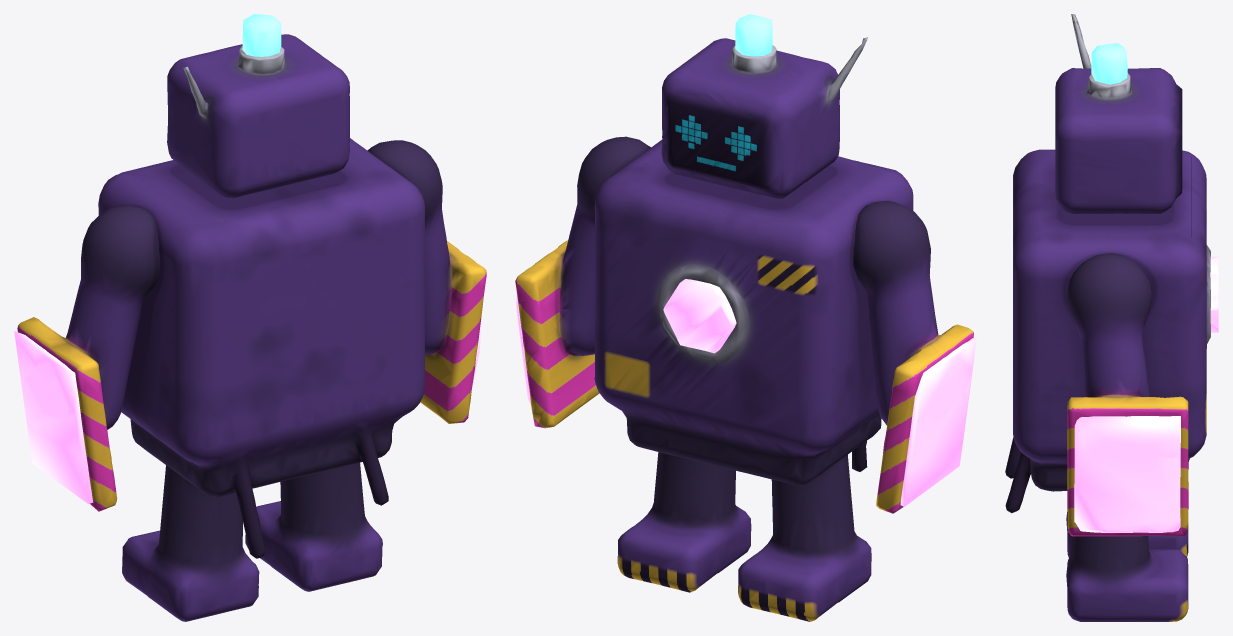
The model's file is Volta.glb.
The picture shows the model from 3 angles, left to right: view 1: azimuth 30°, elevation 25°; view 2: azimuth 150°, elevation 25°; view 3: azimuth 270°, elevation 25°; orthographic projection. The views are drawn at different scales.
Visible parts, largest first — view 1: Body, Head, ArmL, LegL, ArmR, LegR, ArmL_Glow, Head_Glow; view 2: Body, Head, ArmL, ArmR, LegL, LegR, ArmL_Glow, Body_Glow, Head_Glow; view 3: Body, Head, ArmR, ArmR_Glow, LegR, Head_Glow, LegL, Body_Glow.
Boxes of the visible parts, x1,y1,x2,y2 form: Body: (98, 138, 424, 558); Head: (167, 34, 349, 197); ArmL: (17, 205, 160, 511); LegL: (122, 465, 259, 621); ArmR: (367, 140, 486, 423); LegR: (245, 462, 382, 591); ArmL_Glow: (14, 331, 93, 503); Head_Glow: (242, 14, 281, 56); Body: (594, 140, 913, 486); Head: (661, 37, 867, 198); ArmL: (853, 200, 973, 513); ArmR: (515, 136, 650, 428); LegL: (738, 454, 871, 621); LegR: (617, 452, 751, 592); ArmL_Glow: (900, 338, 976, 506); Body_Glow: (663, 279, 736, 353); Head_Glow: (735, 14, 772, 56); Body: (1005, 149, 1210, 513); Head: (1055, 14, 1182, 213); ArmR: (1067, 253, 1188, 536); ArmR_Glow: (1074, 416, 1180, 532); LegR: (1066, 536, 1188, 621); Head_Glow: (1091, 43, 1127, 84); LegL: (1066, 512, 1188, 557); Body_Glow: (1210, 256, 1218, 332).
Bounding box in the file's own units: 1.94 × 2.53 × 0.9216.
Materials: 5 (1 with a texture image).
